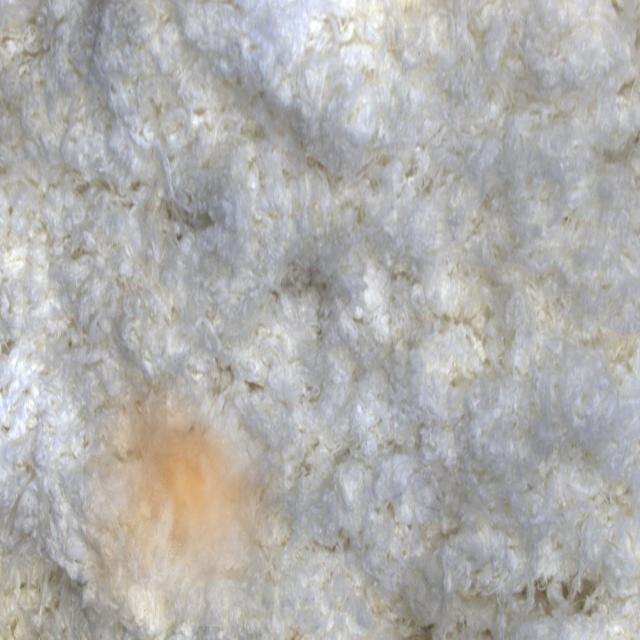dust: (84, 371, 285, 627)
